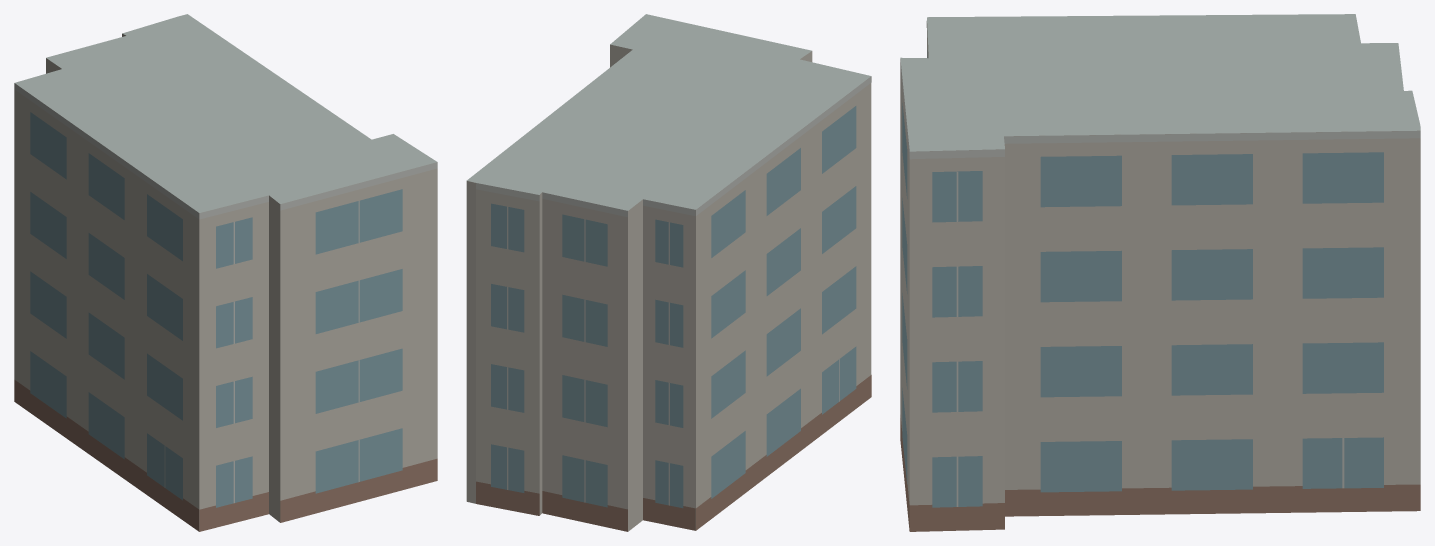
Rendered from survey-upis-32459489.glb.
3 views of the same model, side by side, from view 1: azimuth 30°, elevation 25°; view 2: azimuth 150°, elevation 25°; view 3: azimuth 270°, elevation 25° (orthographic). The views are drawn at different scales.
Parts seen in each view (by area): view 1: survey-upis-32459489.tmp; view 2: survey-upis-32459489.tmp; view 3: survey-upis-32459489.tmp.
Part boxes in pixels (bbox=[...]): survey-upis-32459489.tmp: bbox=[14, 14, 437, 531]; survey-upis-32459489.tmp: bbox=[466, 14, 871, 531]; survey-upis-32459489.tmp: bbox=[900, 14, 1420, 531].
Size of the model in its own units: 9.48 by 12.2 by 15.14.
